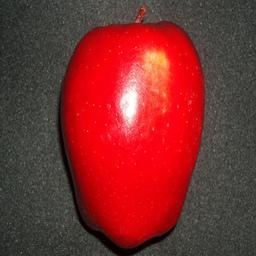apple: (59, 19, 205, 248)
